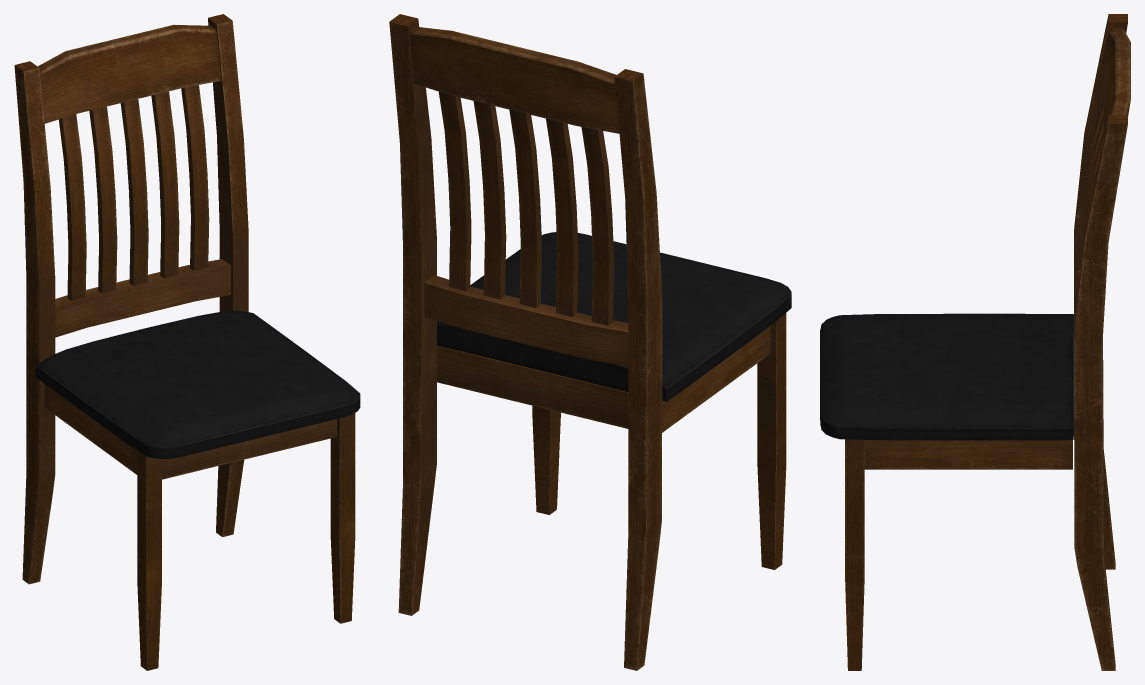
The model's file is dining_chair_old_wooden_max3dd.glb.
3 renders of one model, left to right at view 1: azimuth 30°, elevation 25°; view 2: azimuth 150°, elevation 25°; view 3: azimuth 270°, elevation 25°, orthographic. The views are drawn at different scales.
Parts seen in each view (by area): view 1: chair_chair_0; view 2: chair_chair_0; view 3: chair_chair_0.
Boxes of the visible parts, x1=… form: chair_chair_0: x1=14, y1=14, x2=360, y2=670; chair_chair_0: x1=389, y1=14, x2=791, y2=670; chair_chair_0: x1=820, y1=14, x2=1130, y2=670.
Size of the model in its own units: 0.1734 by 0.3886 by 0.1993.
1 material, 1 textured.
